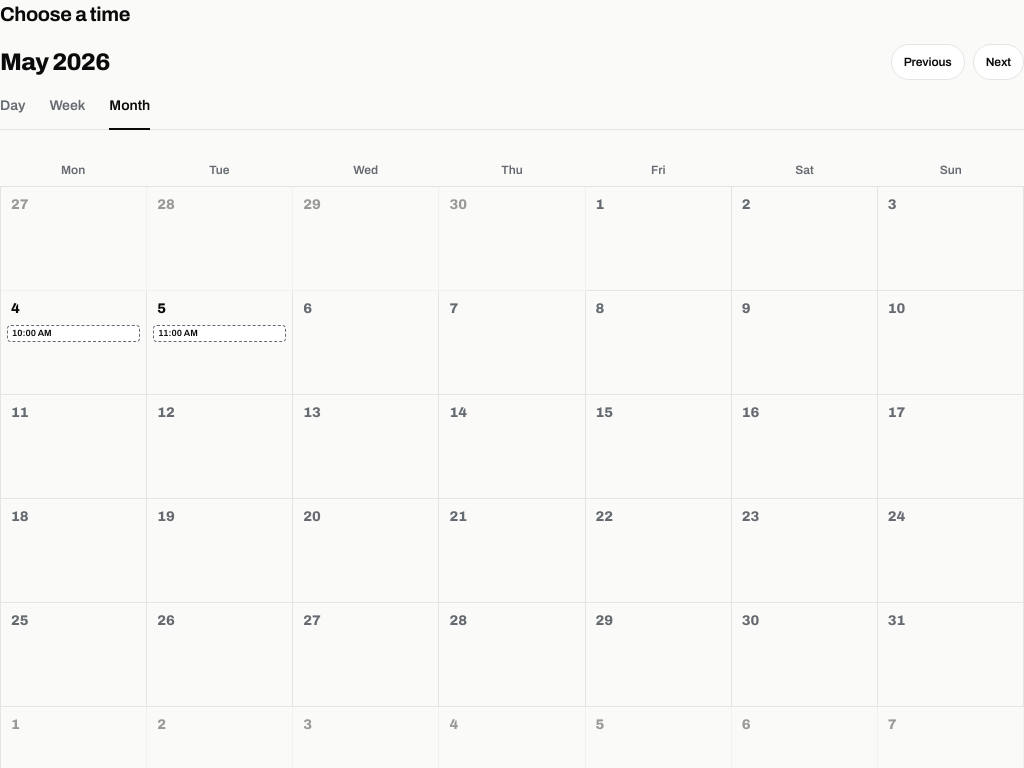
Scenario: BookingForm lesson type filter › confirm is available once the chosen slot maps to a product
Click the button "10:00 AM".
click(74, 334)  # box [7, 325, 140, 342]
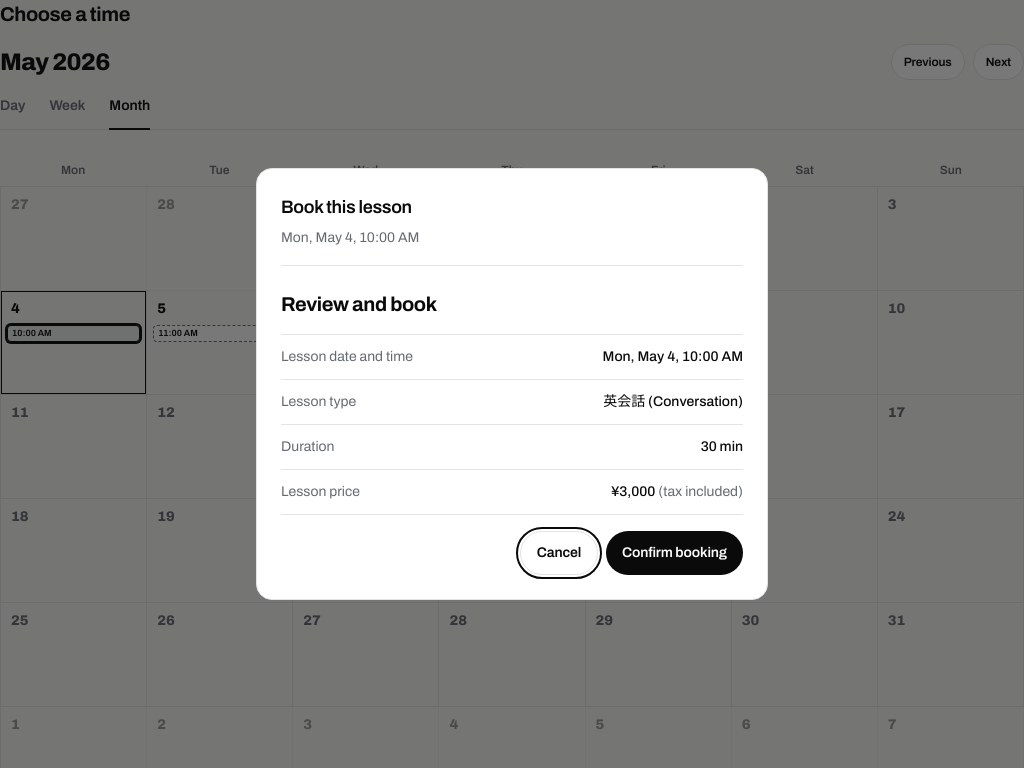
Expected: the heading "Book this lesson" is shown, [281, 197, 412, 217]
Expected: the button "Confirm booking" is enabled, [606, 531, 743, 575]
